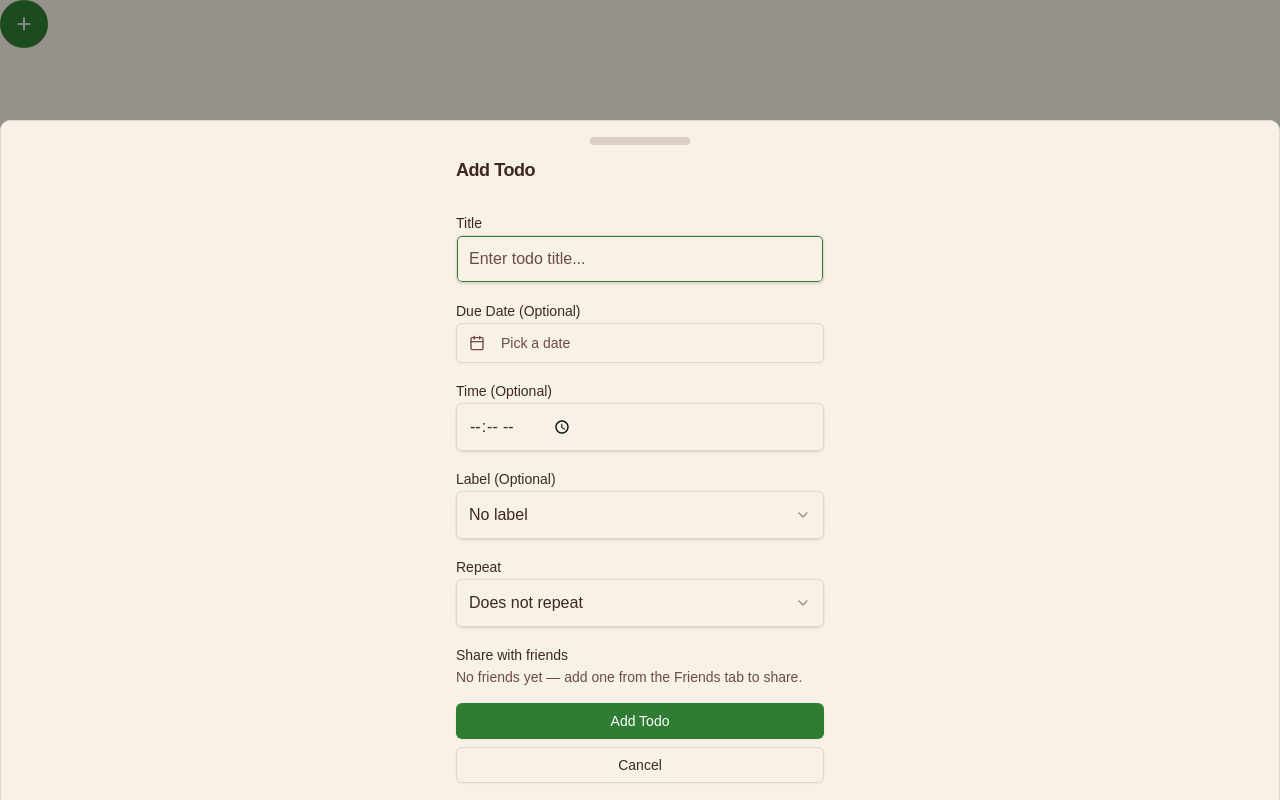
Test: AddTodoDrawer › requires a title
The width and height of the screenshot is (1280, 800).
Click the button "Add Todo".
click(640, 721)  # box [456, 703, 824, 739]
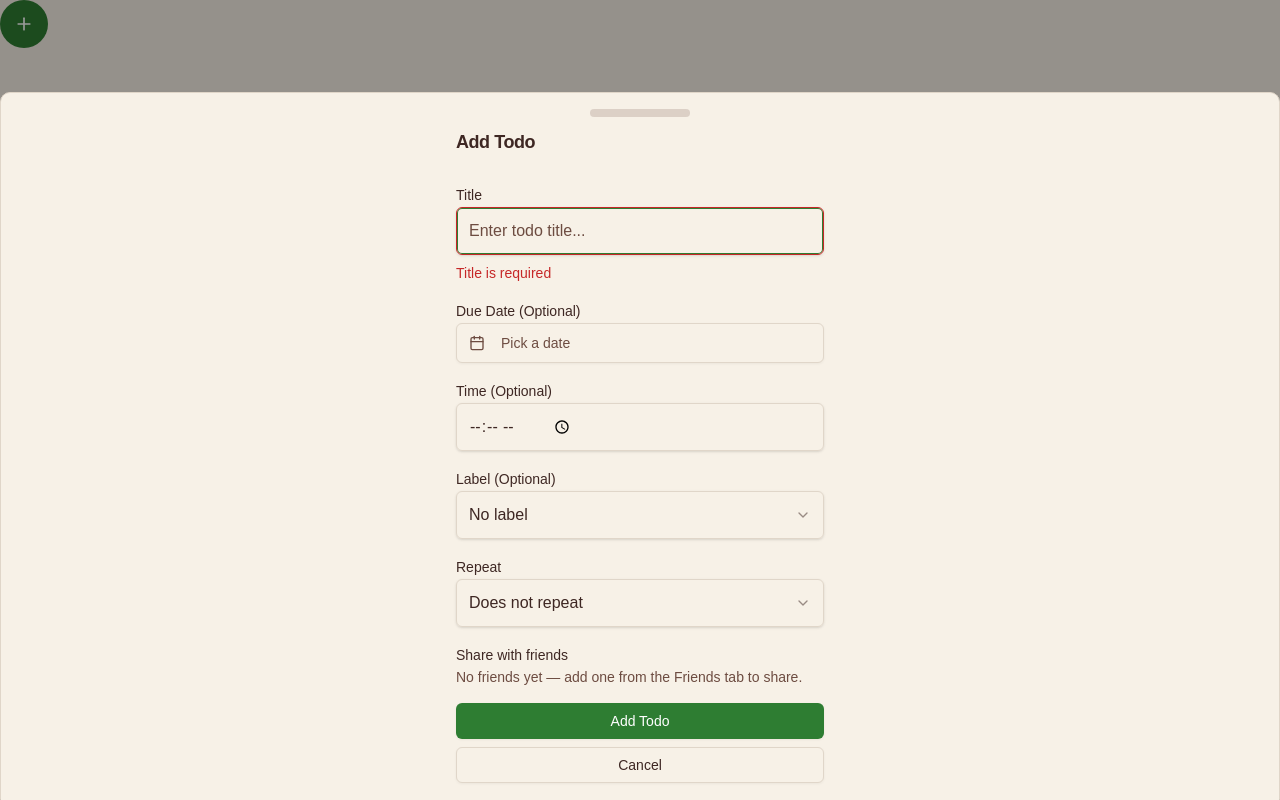
Check: the text "Title is required" is shown, box [456, 265, 551, 281]
